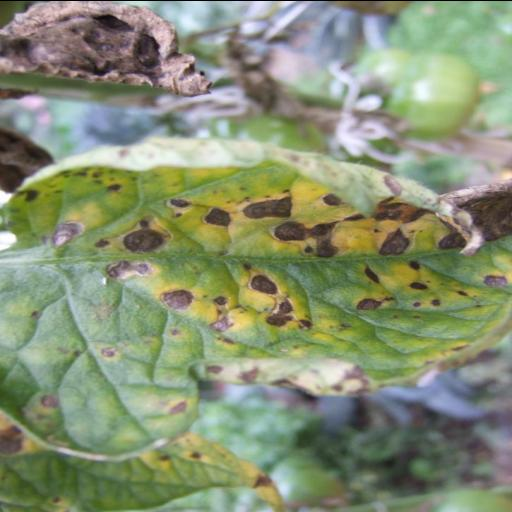disease_tomato: (0, 137, 512, 459)
